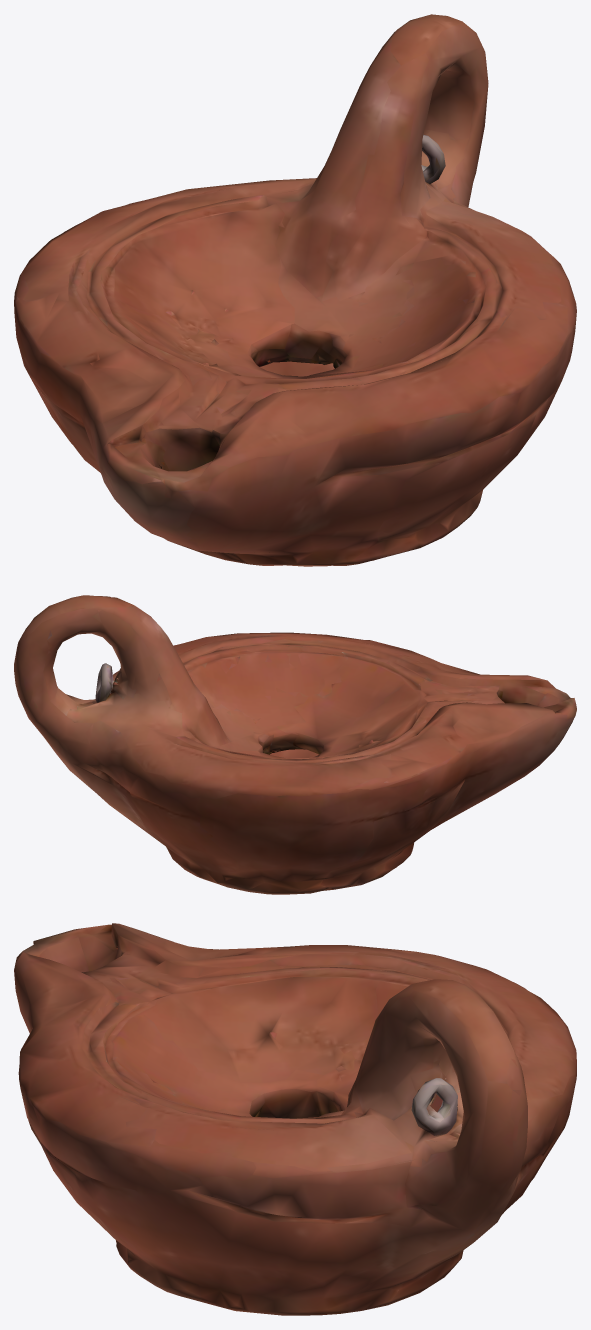
File: baetulo-lucerna.glb
3 views of the same model, one above another, from view 1: azimuth 30°, elevation 25°; view 2: azimuth 150°, elevation 25°; view 3: azimuth 270°, elevation 25° (orthographic). The views are drawn at different scales.
Visible parts, largest first — view 1: geometry_0; view 2: geometry_0; view 3: geometry_0.
Part boxes in pixels (left/top/right/bottom): geometry_0: left=14, top=14, right=576, bottom=566; geometry_0: left=14, top=595, right=576, bottom=894; geometry_0: left=14, top=923, right=576, bottom=1315.
Bounding box in the file's own units: 0.9993 × 0.6007 × 0.8599.
Materials: 1 (1 with a texture image).
